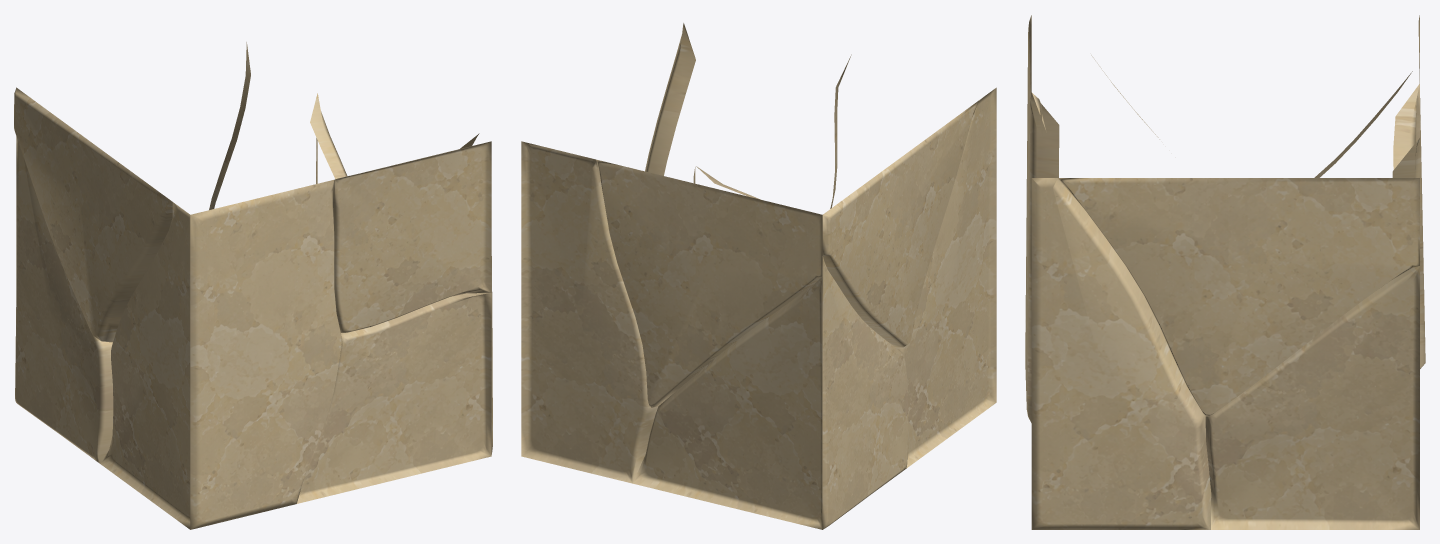
Rendered from GroundRock02.glb.
The picture shows the model from 3 angles, left to right: view 1: azimuth 30°, elevation 25°; view 2: azimuth 150°, elevation 25°; view 3: azimuth 270°, elevation 25°; orthographic projection. The views are drawn at different scales.
Parts seen in each view (by area): view 1: ground_rock_02; view 2: ground_rock_02; view 3: ground_rock_02.
Part boxes in pixels (x1,y1,x2,y2): ground_rock_02: [14, 42, 492, 529]; ground_rock_02: [521, 23, 996, 529]; ground_rock_02: [1025, 15, 1425, 529].
Size of the model in its own units: 1.03 by 1 by 1.03.
13 materials, 13 textured.
